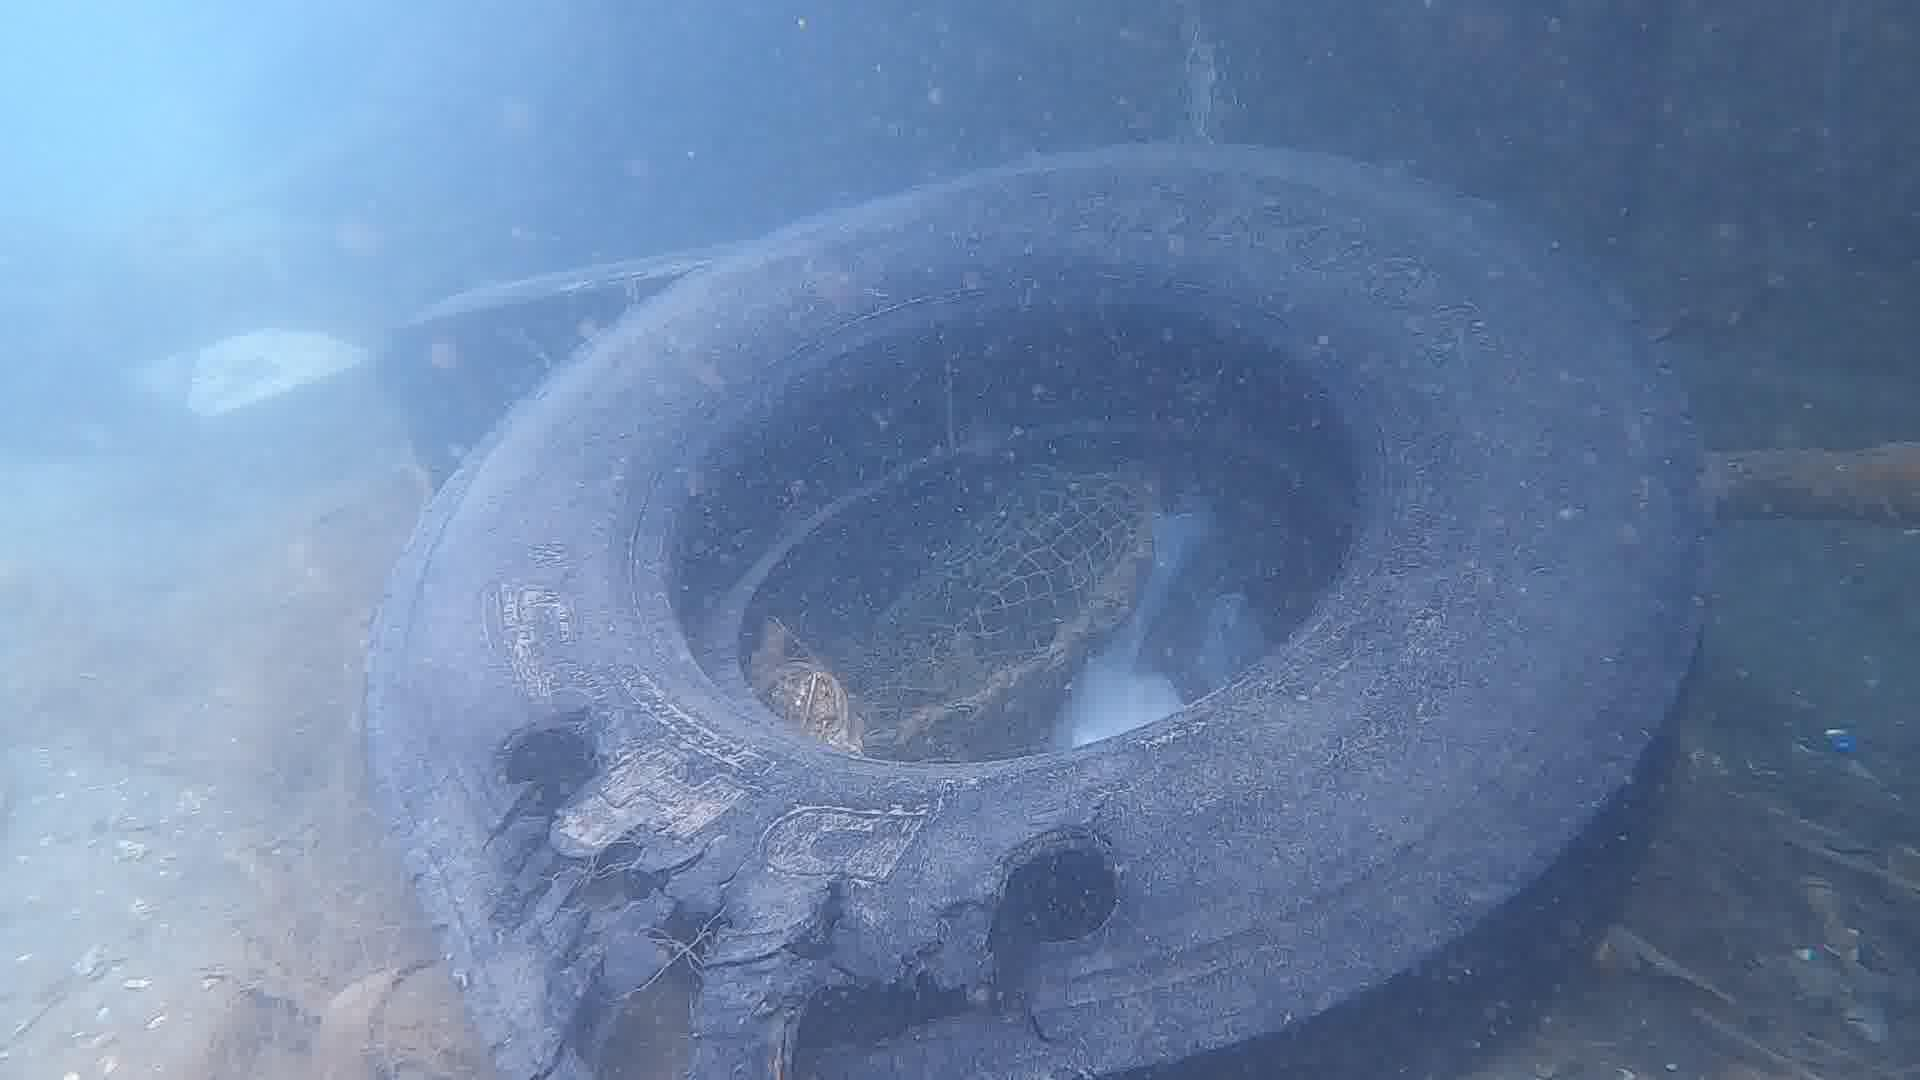fish net: (856, 472, 1145, 723)
tire: (357, 136, 1706, 1080)
